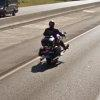Motorcycle: (31, 28, 78, 72)
